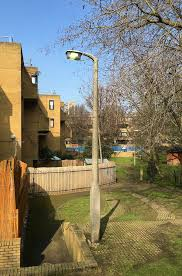light_pole: (87, 53, 102, 241)
